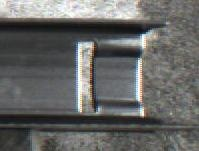press: (40, 14, 193, 135)
